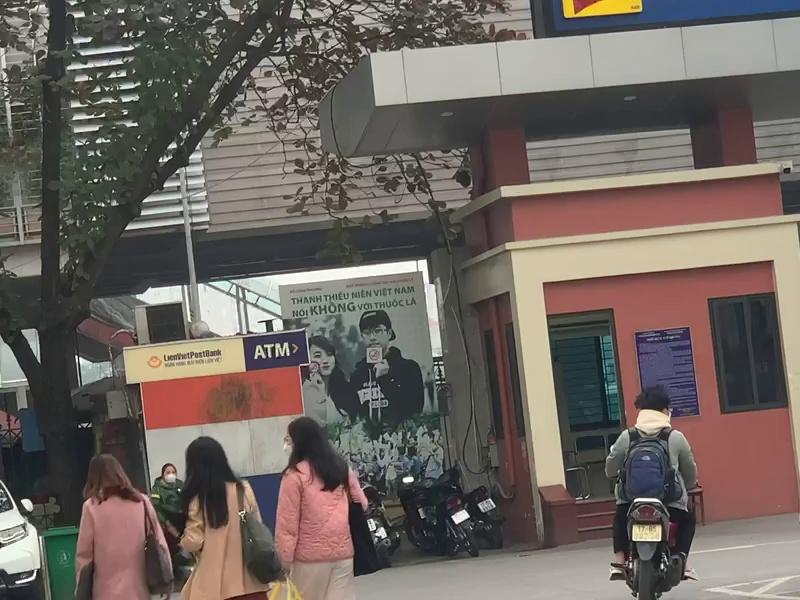license_plate: (631, 520, 662, 543), (451, 508, 470, 525), (478, 498, 496, 514)
motorcyclist: (604, 382, 704, 600)
